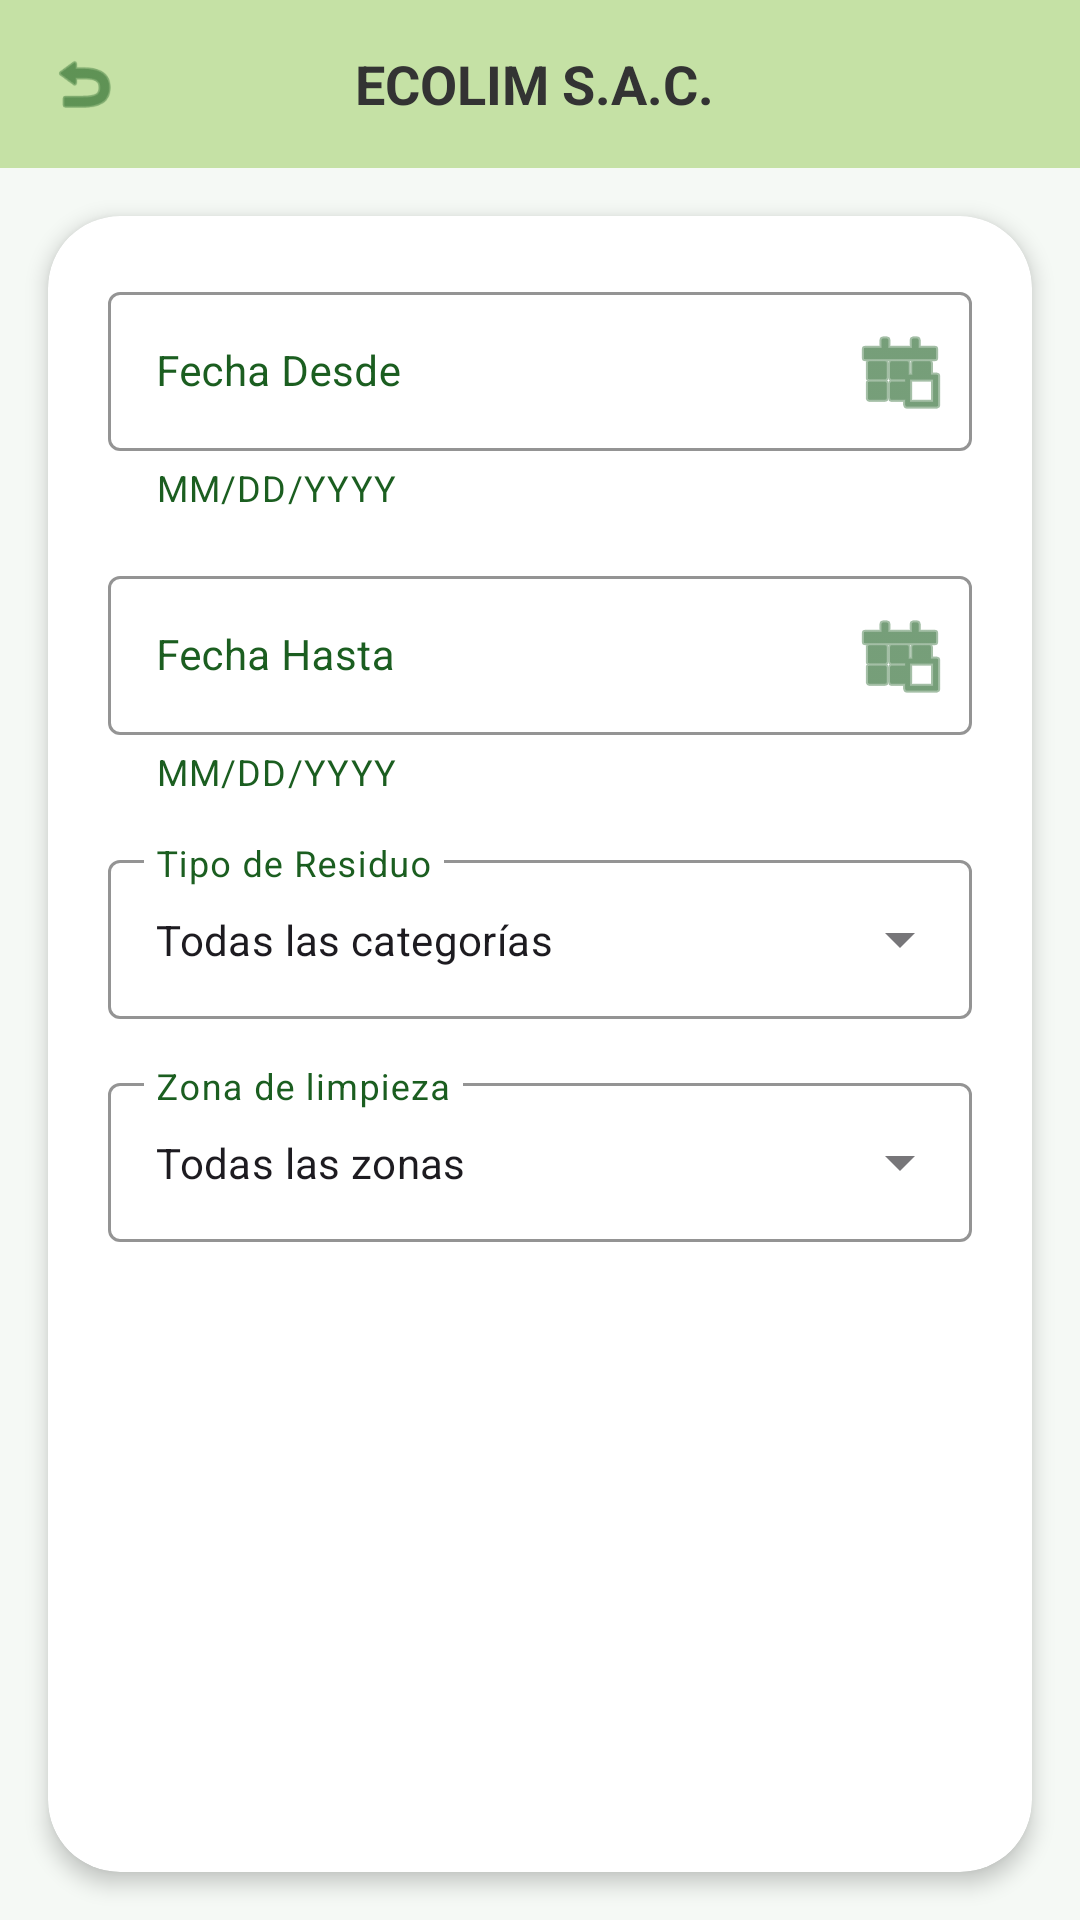

Point at icon controls on the screen. Image size 1080px×1920px, points as (x=x, y=y).
revert: (x=85, y=84)
